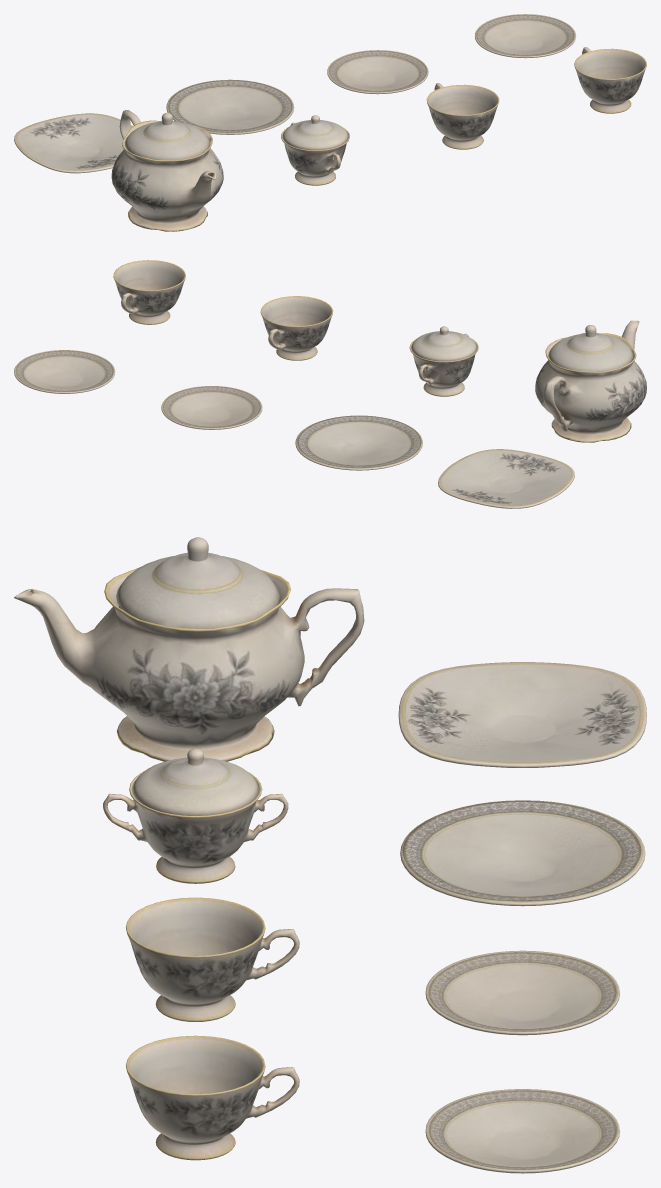
File: tea_set_01.glb
3 views of the same model, one above another, from view 1: azimuth 30°, elevation 25°; view 2: azimuth 150°, elevation 25°; view 3: azimuth 270°, elevation 25° (orthographic). The views are drawn at different scales.
Parts seen in each view (by area): view 1: tea_set_01_teapot_01, tea_set_01_plate_large_circular_03, tea_set_01_plate_large_square_01, tea_set_01_cup_small_01, tea_set_01_cup_small_02, tea_set_01_saucer_circular_04, tea_set_01_saucer_circular_03, tea_set_01_teapot_01_lid, tea_set_01_sugar_cup_01, tea_set_01_sugar_cup_01_lid; view 2: tea_set_01_teapot_01, tea_set_01_plate_large_square_01, tea_set_01_plate_large_circular_03, tea_set_01_cup_small_01, tea_set_01_cup_small_02, tea_set_01_saucer_circular_04, tea_set_01_saucer_circular_03, tea_set_01_teapot_01_lid, tea_set_01_sugar_cup_01, tea_set_01_sugar_cup_01_lid; view 3: tea_set_01_teapot_01, tea_set_01_plate_large_square_01, tea_set_01_plate_large_circular_03, tea_set_01_cup_small_01, tea_set_01_cup_small_02, tea_set_01_saucer_circular_03, tea_set_01_saucer_circular_04, tea_set_01_teapot_01_lid, tea_set_01_sugar_cup_01, tea_set_01_sugar_cup_01_lid.
Part boxes in pixels (box(x1,y1,x2,y2)): tea_set_01_teapot_01: box(111, 110, 223, 231); tea_set_01_plate_large_circular_03: box(166, 79, 294, 134); tea_set_01_plate_large_square_01: box(14, 113, 133, 173); tea_set_01_cup_small_01: box(426, 83, 499, 149); tea_set_01_cup_small_02: box(574, 47, 646, 113); tea_set_01_saucer_circular_04: box(327, 50, 428, 94); tea_set_01_saucer_circular_03: box(474, 14, 575, 58); tea_set_01_teapot_01_lid: box(124, 112, 209, 160); tea_set_01_sugar_cup_01: box(281, 122, 349, 185); tea_set_01_sugar_cup_01_lid: box(282, 115, 348, 150); tea_set_01_teapot_01: box(535, 320, 646, 442); tea_set_01_plate_large_square_01: box(438, 449, 574, 508); tea_set_01_plate_large_circular_03: box(295, 415, 422, 470); tea_set_01_cup_small_01: box(260, 296, 332, 360); tea_set_01_cup_small_02: box(113, 260, 185, 324); tea_set_01_saucer_circular_04: box(161, 386, 262, 429); tea_set_01_saucer_circular_03: box(14, 350, 115, 393); tea_set_01_teapot_01_lid: box(548, 325, 633, 371); tea_set_01_sugar_cup_01: box(409, 333, 478, 396); tea_set_01_sugar_cup_01_lid: box(411, 326, 477, 361); tea_set_01_teapot_01: box(14, 568, 364, 761); tea_set_01_plate_large_square_01: box(398, 662, 646, 767); tea_set_01_plate_large_circular_03: box(400, 800, 645, 906); tea_set_01_cup_small_01: box(126, 897, 299, 1021); tea_set_01_cup_small_02: box(126, 1035, 299, 1160); tea_set_01_saucer_circular_03: box(425, 1089, 619, 1173); tea_set_01_saucer_circular_04: box(425, 950, 619, 1035); tea_set_01_teapot_01_lid: box(116, 537, 279, 628); tea_set_01_sugar_cup_01: box(103, 771, 288, 883); tea_set_01_sugar_cup_01_lid: box(131, 748, 259, 816).
Bounding box in the file's own units: 0.9183 × 0.165 × 0.4839.
1 material, 1 textured.
